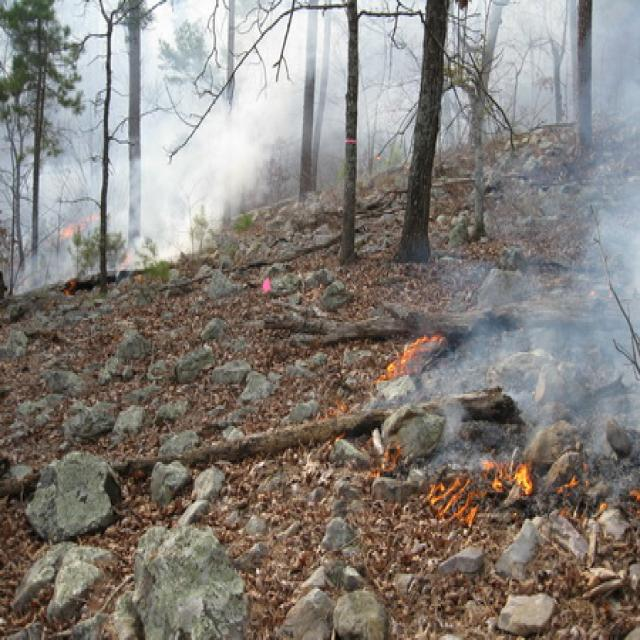smoke: (492, 258, 640, 440), (569, 4, 640, 248), (106, 102, 259, 208)
